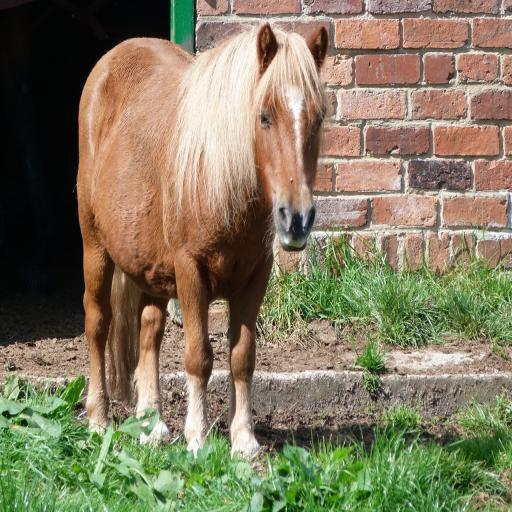horse: (74, 18, 330, 460)
